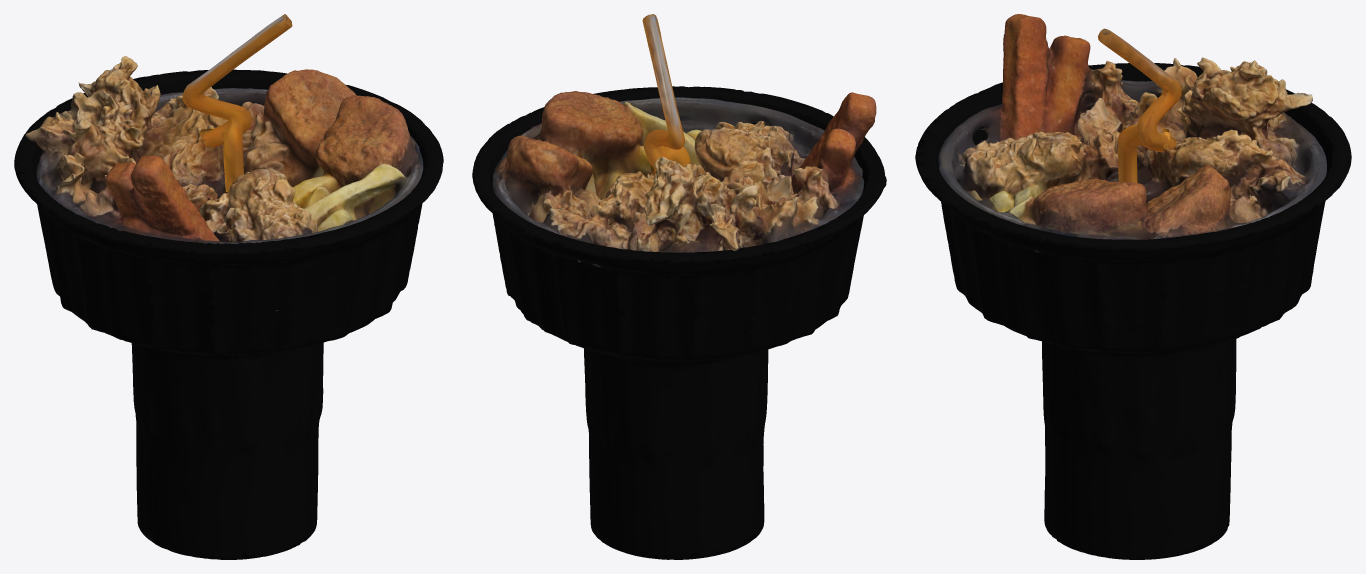
Rendered from combo3.glb.
The picture shows the model from 3 angles, left to right: view 1: azimuth 30°, elevation 25°; view 2: azimuth 150°, elevation 25°; view 3: azimuth 270°, elevation 25°; orthographic projection. The views are drawn at different scales.
Visible parts, largest first — view 1: model.002, 3DModel, model.001; view 2: model.002, 3DModel, model.001; view 3: model.002, 3DModel, model.001.
Boxes of the visible parts, left/top/right/bottom form: model.002: left=14, top=69, right=443, bottom=559; 3DModel: left=25, top=56, right=423, bottom=310; model.001: left=182, top=14, right=292, bottom=192; model.002: left=472, top=86, right=886, bottom=559; 3DModel: left=492, top=91, right=876, bottom=267; model.001: left=642, top=14, right=690, bottom=173; model.002: left=915, top=63, right=1351, bottom=559; 3DModel: left=938, top=14, right=1326, bottom=252; model.001: left=1098, top=28, right=1181, bottom=182.
Size of the model in its own units: 0.189 by 0.2464 by 0.1892.
3 materials, 2 textured.
